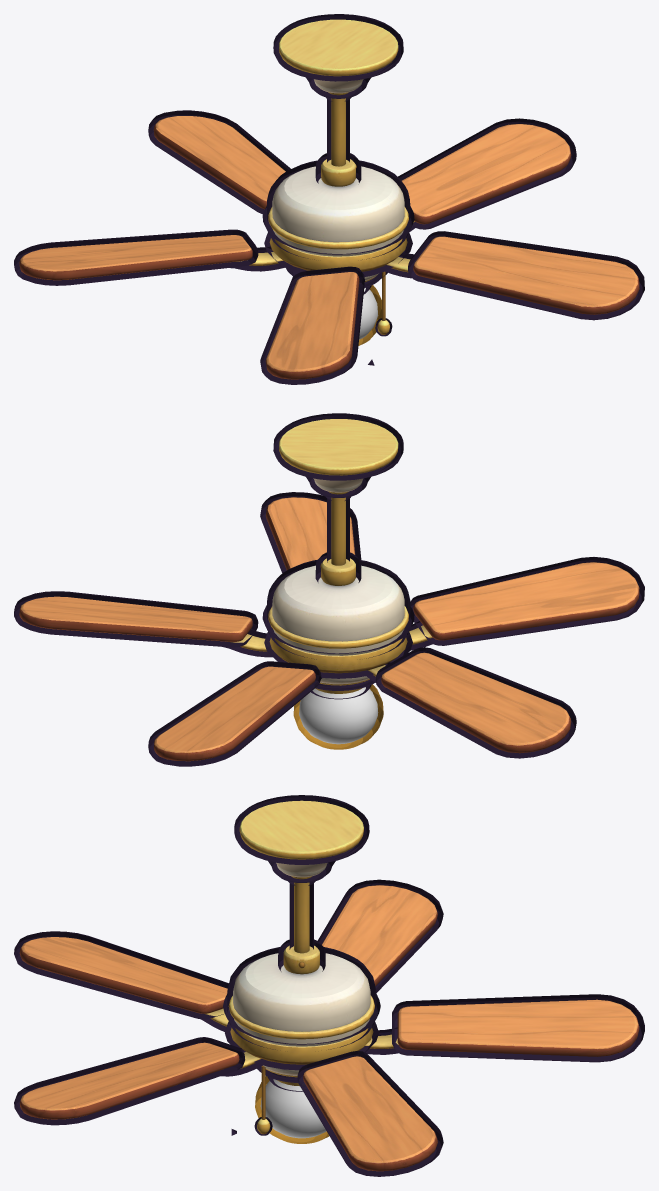
The model's file is CeilingFan.glb.
3 renders of one model, top to bottom at view 1: azimuth 30°, elevation 25°; view 2: azimuth 150°, elevation 25°; view 3: azimuth 270°, elevation 25°, orthographic. The views are drawn at different scales.
Parts seen in each view (by area): view 1: FanBlades, CeilingFan, CeilingFan_Outline, FanLight; view 2: FanBlades, CeilingFan, CeilingFan_Outline, FanLight; view 3: FanBlades, CeilingFan, CeilingFan_Outline, FanLight.
Boxes of the visible parts, box(x1,y1,x2,y2) form: FanBlades: box(14, 110, 644, 384); CeilingFan: box(268, 19, 408, 334); CeilingFan_Outline: box(262, 14, 414, 345); FanLight: box(359, 288, 378, 339); FanBlades: box(14, 492, 644, 766); CeilingFan: box(268, 419, 408, 693); CeilingFan_Outline: box(262, 413, 414, 749); FanLight: box(299, 687, 378, 744); FanBlades: box(14, 879, 644, 1176); CeilingFan: box(228, 800, 374, 1134); CeilingFan_Outline: box(223, 795, 380, 1143); FanLight: box(260, 1079, 326, 1138).
Bounding box in the file's own units: 9.75 × 5.17 × 9.35.
3 materials, 3 textured.
